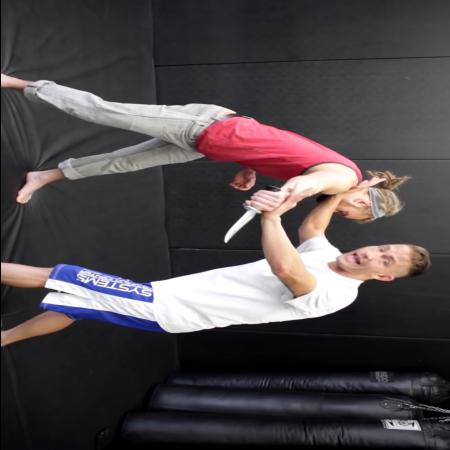long weapon: (214, 183, 286, 247)
